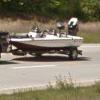Boat: (6, 22, 86, 66)
